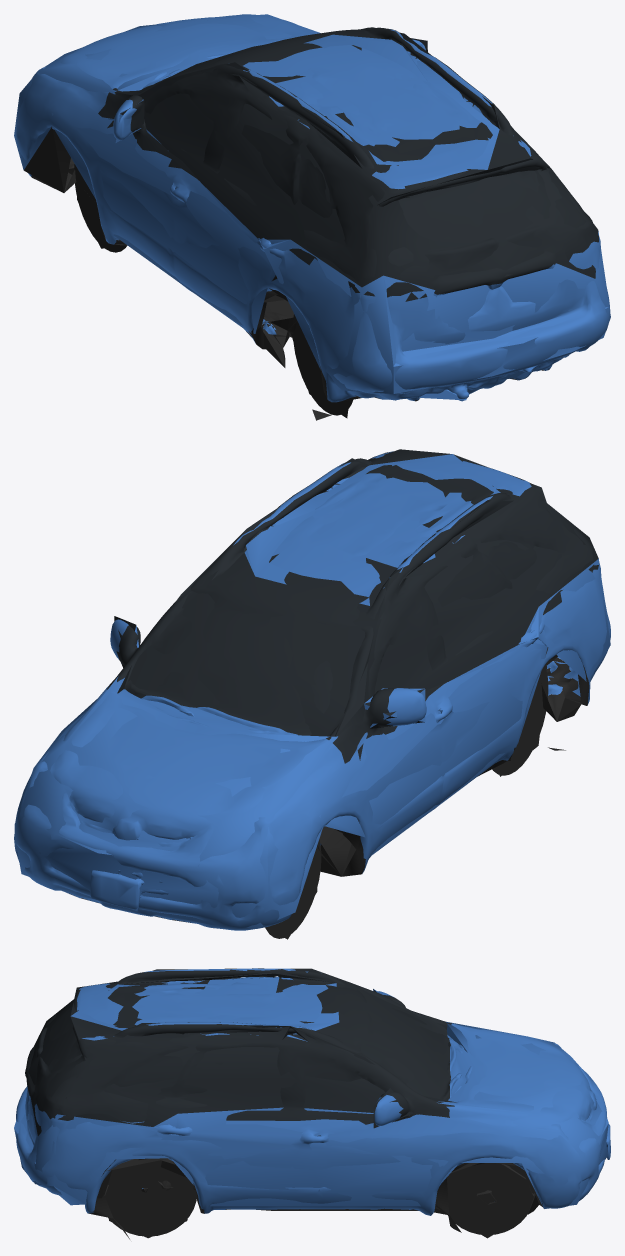
File: hyundai-veracruz.glb
3 views of the same model, one above another, from view 1: azimuth 30°, elevation 25°; view 2: azimuth 150°, elevation 25°; view 3: azimuth 270°, elevation 25° (orthographic). The views are drawn at different scales.
Visible parts, largest first — view 1: body, far; view 2: body, far; view 3: body, far.
Boxes of the visible parts, x1,y1,x2,y2 form: body: [16, 14, 610, 420]; far: [14, 14, 610, 418]; body: [14, 451, 610, 938]; far: [14, 449, 610, 939]; body: [16, 968, 610, 1239]; far: [14, 968, 608, 1238].
Size of the model in its own units: 2.27 by 1.9 by 4.91.
